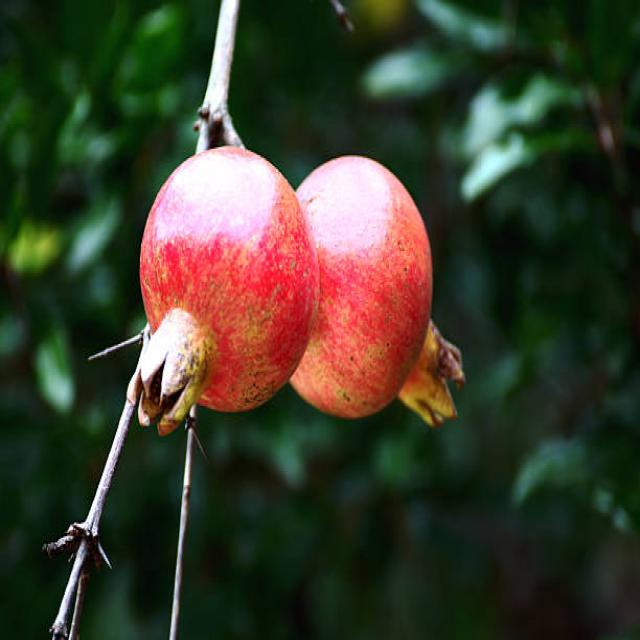Ripe: (130, 140, 320, 443), (297, 153, 469, 444)
